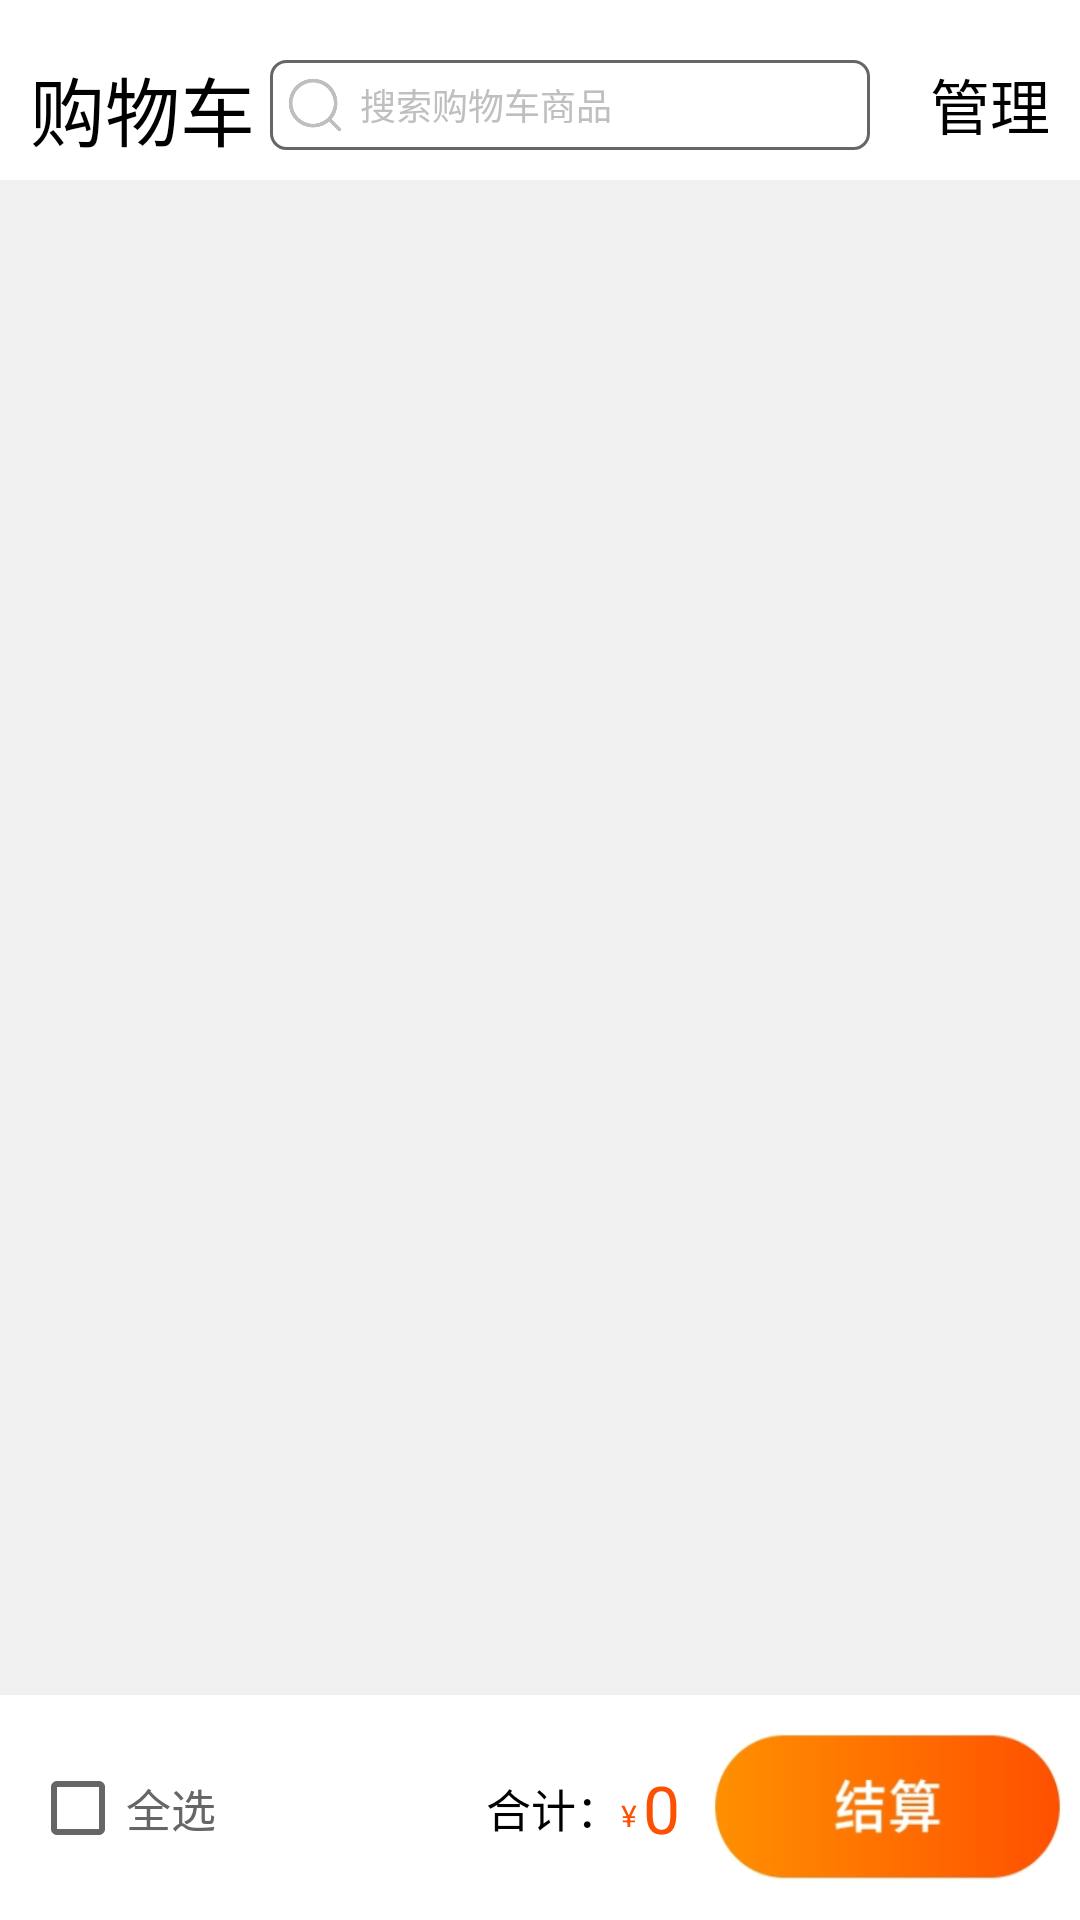

Icon click points for this 1080×1920 phone screenshot, format (x,y):
search shop: (315,105)
